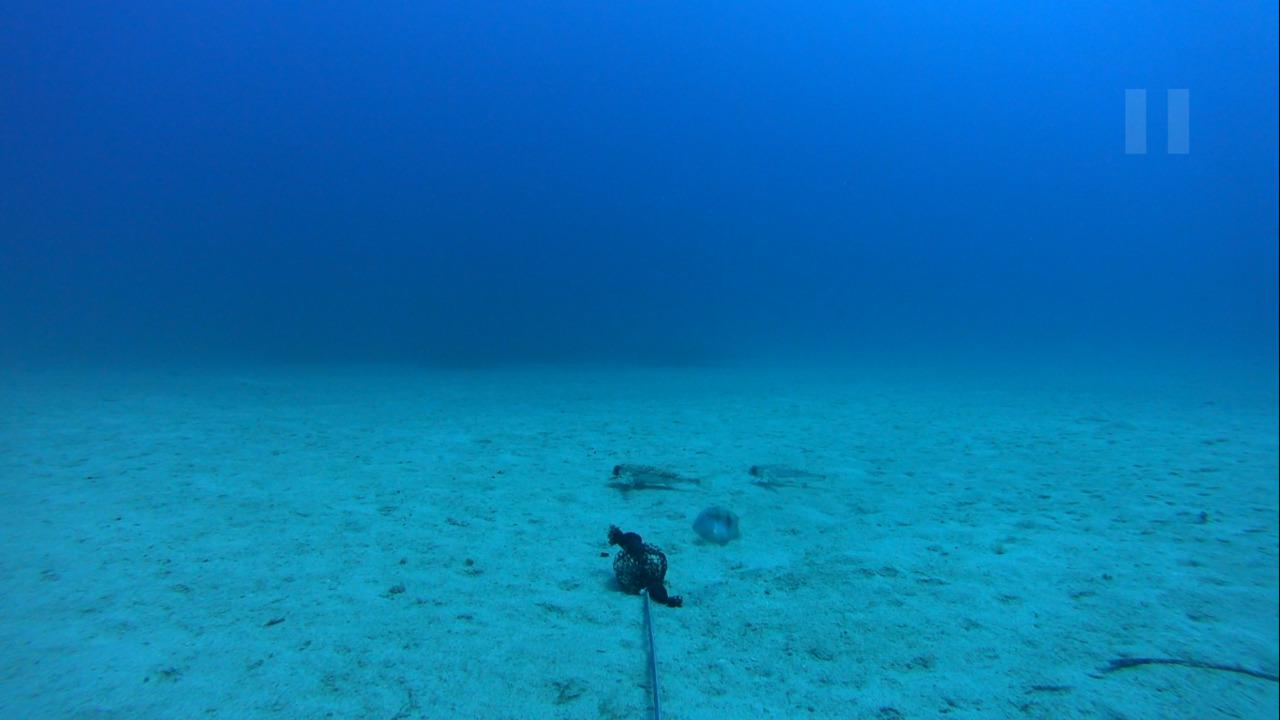dactylopterus: (594, 455, 714, 500), (735, 460, 845, 495)
raor: (682, 504, 745, 545)
